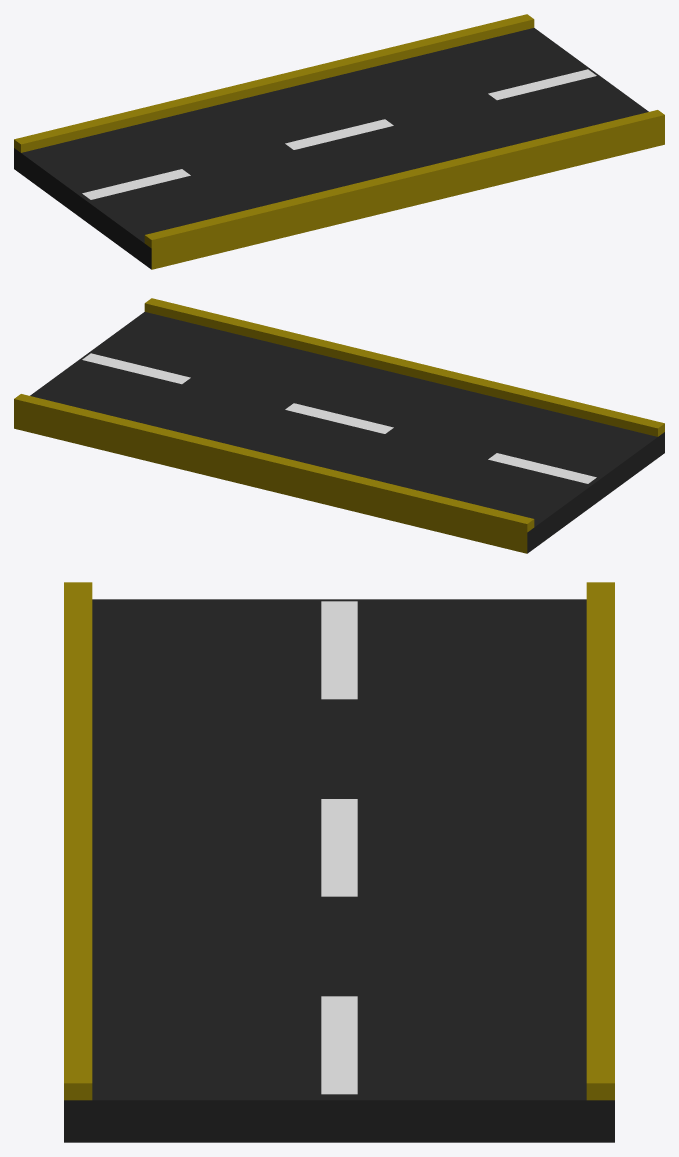
The model's file is ROAD.fbx.
The picture shows the model from 3 angles, top to bottom: view 1: azimuth 30°, elevation 25°; view 2: azimuth 150°, elevation 25°; view 3: azimuth 270°, elevation 25°; orthographic projection. The views are drawn at different scales.
Visible parts, largest first — view 1: road; view 2: road; view 3: road.
Part boxes in pixels (x1,y1,x2,y2): road: (14, 14, 664, 269); road: (14, 298, 664, 553); road: (64, 582, 614, 1142).
Size of the model in its own units: 1024 by 56.65 by 476.
